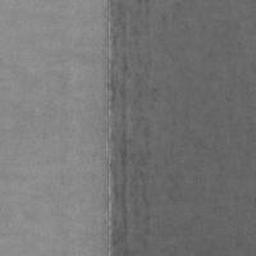Welding line: (102, 0, 115, 256)
